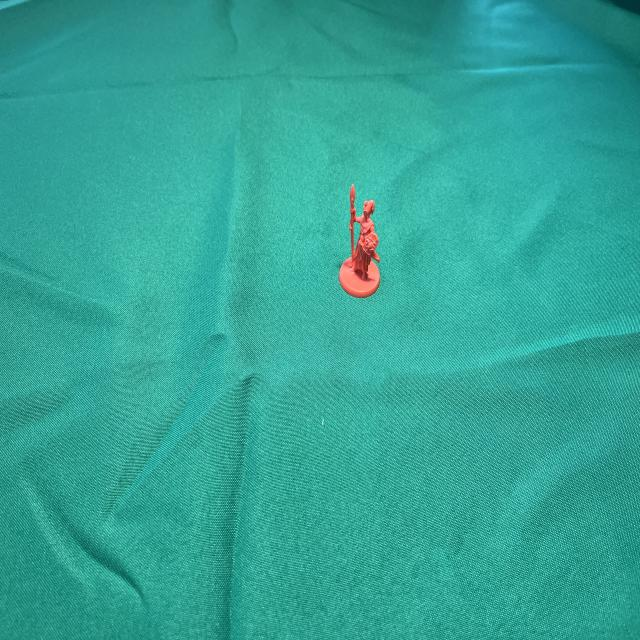amon_follower: (339, 185, 380, 298)
